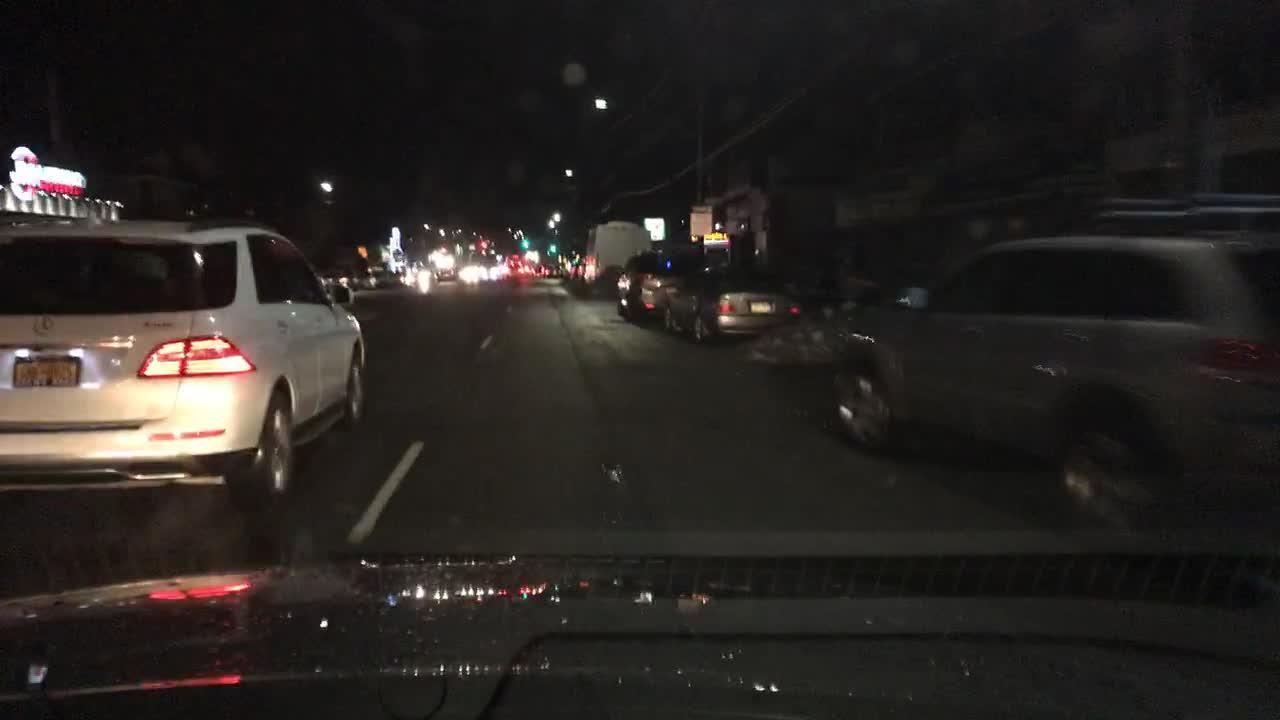Mercedes: (32, 308, 62, 341)
